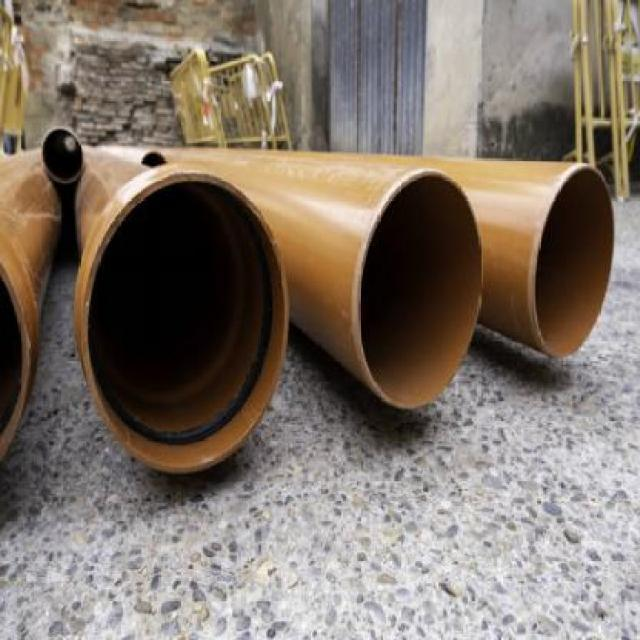pipe: (83, 172, 291, 474), (359, 171, 484, 410), (533, 166, 616, 357)
